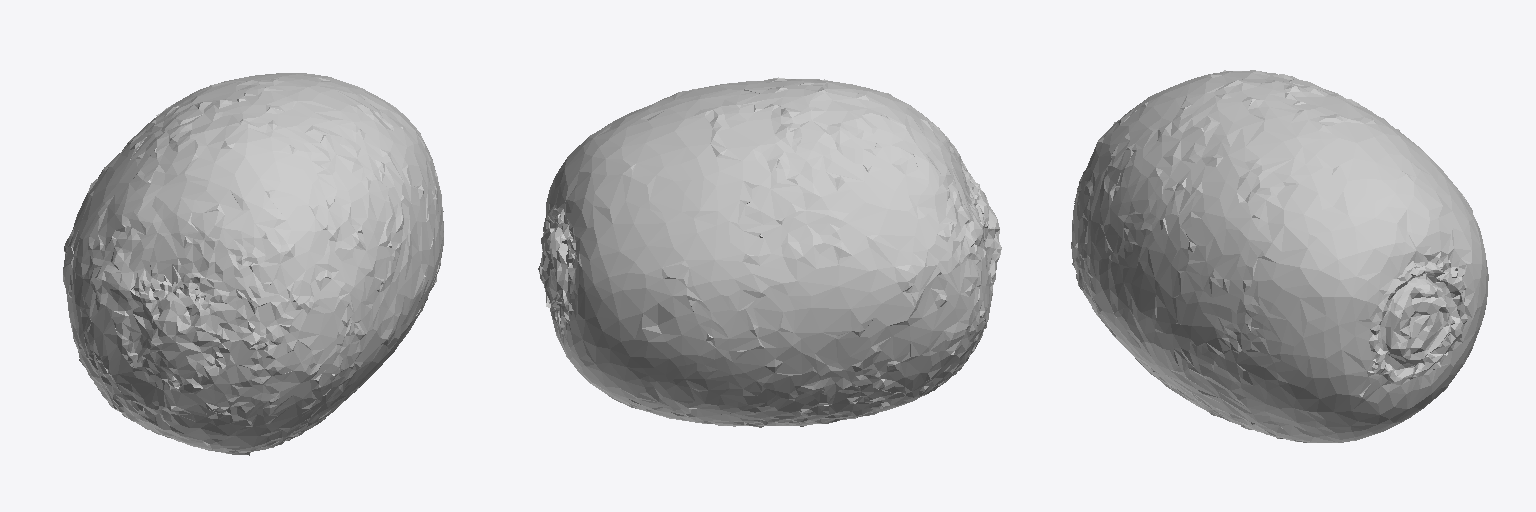
Rendered from kiwi.obj.
The picture shows the model from 3 angles: view 1: azimuth 30°, elevation 25°; view 2: azimuth 150°, elevation 25°; view 3: azimuth 270°, elevation 25°; orthographic projection.
Visible parts, largest first — view 1: food_kiwi_01_kiwi_lores.001; view 2: food_kiwi_01_kiwi_lores.001; view 3: food_kiwi_01_kiwi_lores.001.
Boxes of the visible parts, box(x1,y1,x2,y2) form: food_kiwi_01_kiwi_lores.001: box(63, 73, 443, 455); food_kiwi_01_kiwi_lores.001: box(538, 77, 1001, 427); food_kiwi_01_kiwi_lores.001: box(1071, 70, 1488, 442).
Bounding box in the file's own units: 0.1943 × 0.1554 × 0.1848.